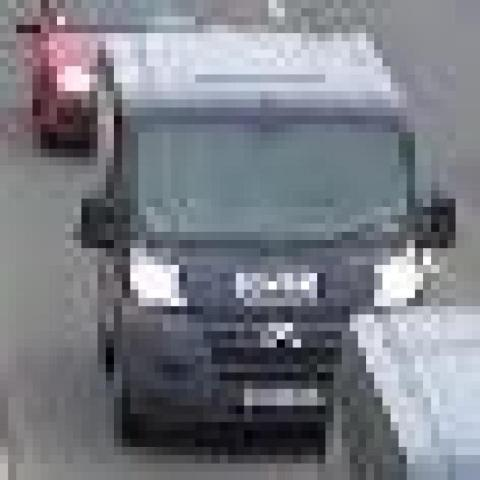car: (28, 0, 200, 141)
van: (86, 38, 411, 452)
